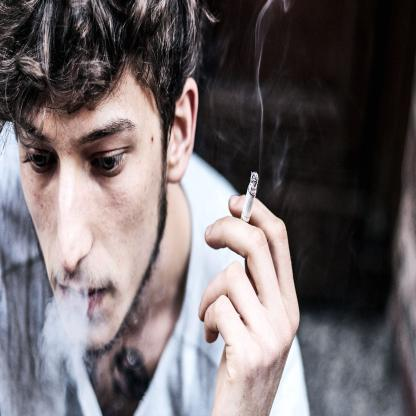cigarette: (240, 172, 260, 222)
person: (0, 0, 271, 415)
smoke: (38, 294, 90, 381)
